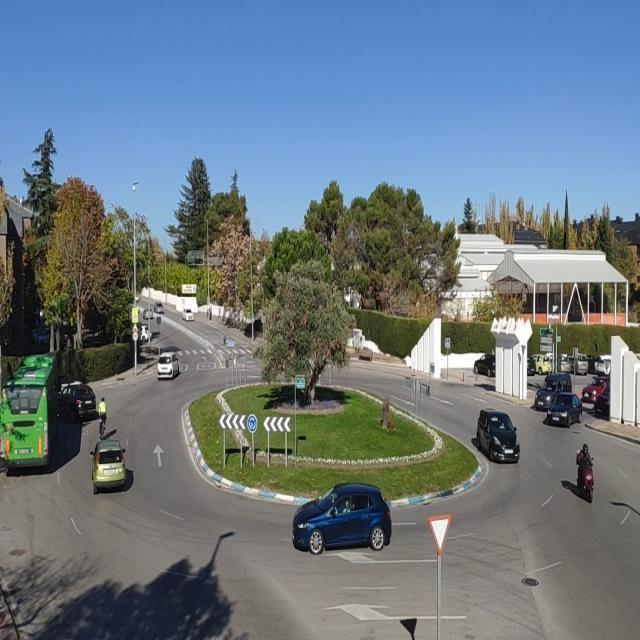Bus: (0, 354, 60, 473)
Car: (291, 482, 392, 551), (476, 412, 521, 464), (88, 439, 130, 491), (59, 384, 98, 420), (546, 392, 582, 426), (156, 350, 181, 381)
Cycle: (574, 443, 596, 502), (96, 394, 109, 438)
